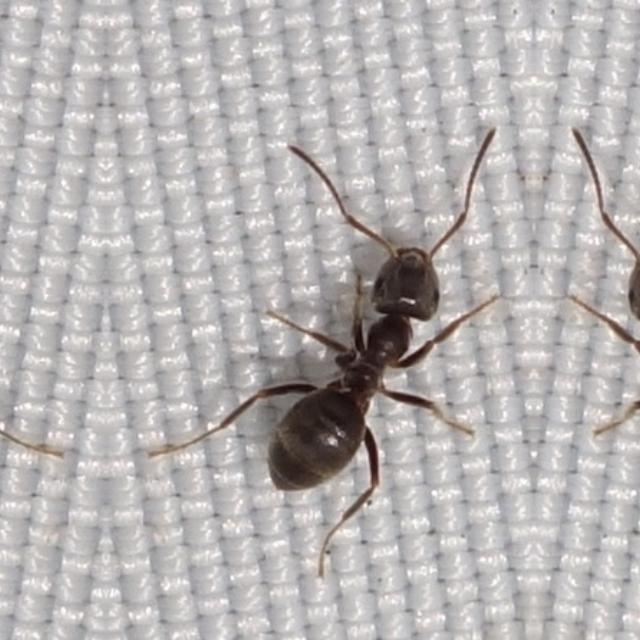Lasius: (220, 215, 510, 521), (556, 215, 640, 521)
